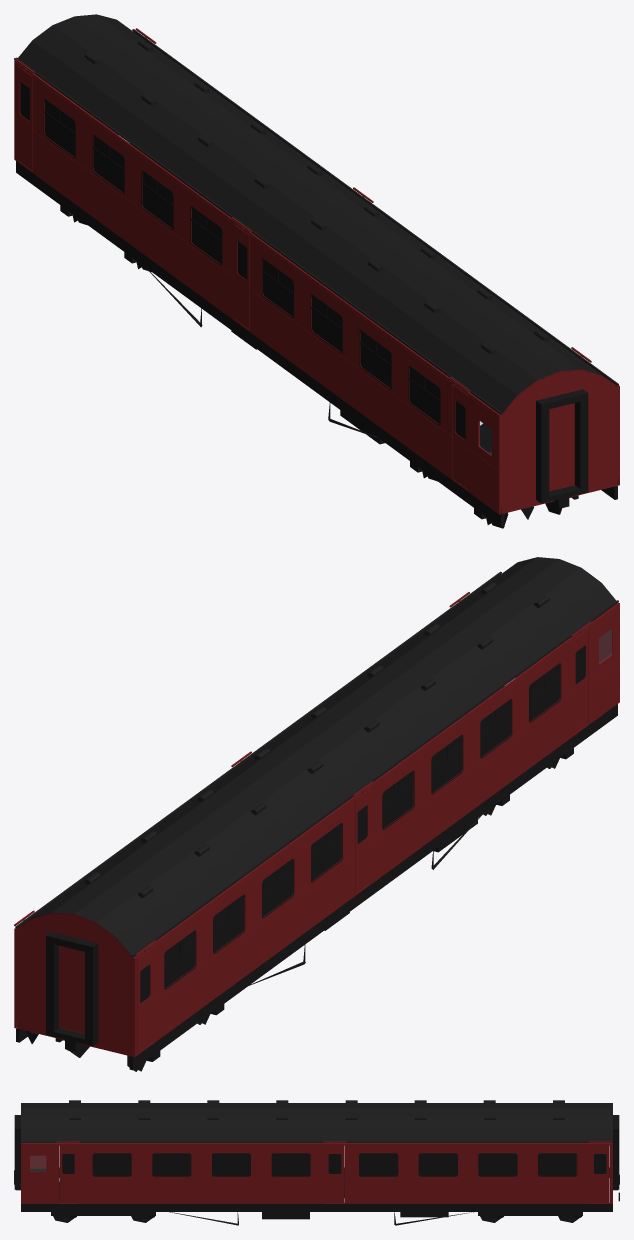
The model's file is coach_buffet1_lod2.glb.
The picture shows the model from 3 angles, top to bottom: view 1: azimuth 30°, elevation 25°; view 2: azimuth 150°, elevation 25°; view 3: azimuth 270°, elevation 25°; orthographic projection. The views are drawn at different scales.
Visible parts, largest first — view 1: coach_static_roof_black, coach_static_coach_maroon, coach_static_underframe, gw_door_A_coach_maroon; view 2: coach_static_roof_black, coach_static_coach_maroon, coach_static_underframe, gw_door_B_coach_maroon; view 3: coach_static_coach_maroon, coach_static_roof_black, coach_static_underframe, coach_static_glass.
Part boxes in pixels (x1,y1,x2,y2): coach_static_roof_black: [16, 14, 618, 414]; coach_static_coach_maroon: [14, 28, 619, 514]; coach_static_underframe: [16, 82, 617, 528]; gw_door_A_coach_maroon: [549, 403, 574, 490]; coach_static_roof_black: [15, 557, 618, 957]; coach_static_coach_maroon: [14, 577, 619, 1057]; coach_static_underframe: [16, 646, 617, 1071]; gw_door_B_coach_maroon: [59, 946, 84, 1033]; coach_static_coach_maroon: [21, 1141, 612, 1203]; coach_static_roof_black: [21, 1100, 612, 1142]; coach_static_underframe: [14, 1115, 619, 1225]; coach_static_glass: [30, 1156, 45, 1171].
Size of the model in its own units: 2.88 by 3.92 by 20.12.
